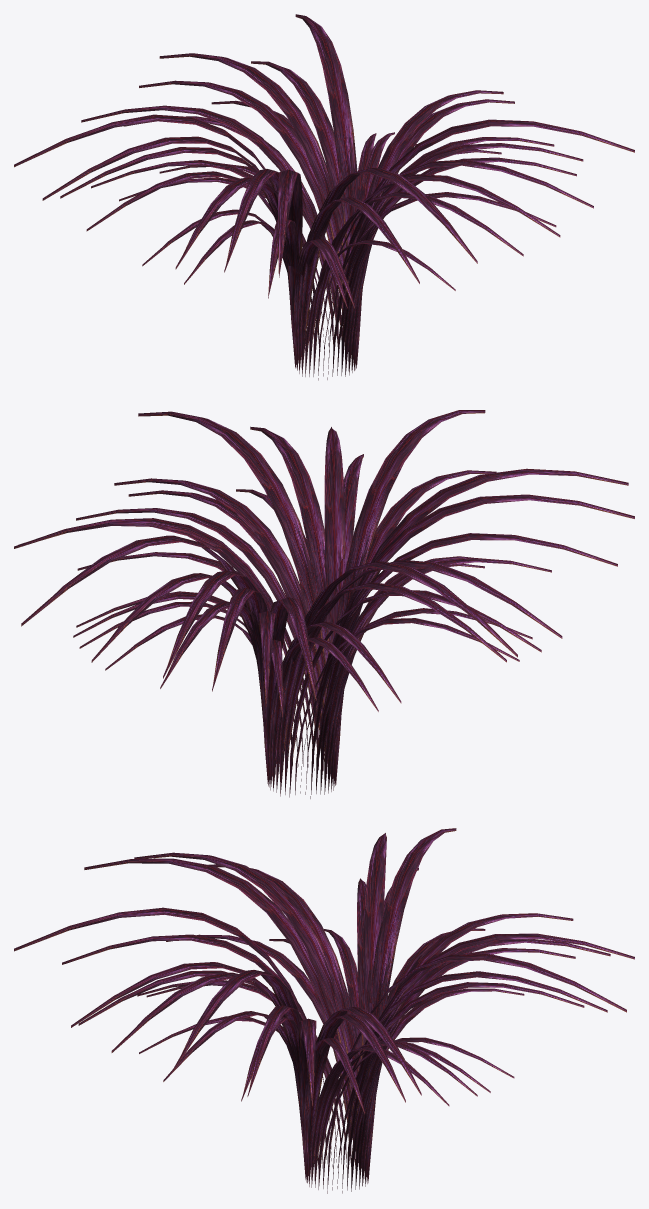
Rendered from finegrass_meadow_10.glb.
The picture shows the model from 3 angles, top to bottom: view 1: azimuth 30°, elevation 25°; view 2: azimuth 150°, elevation 25°; view 3: azimuth 270°, elevation 25°; orthographic projection. The views are drawn at different scales.
Parts seen in each view (by area): view 1: export; view 2: export; view 3: export.
Part boxes in pixels (box(x1,y1,x2,y2)): export: box(14, 14, 634, 380); export: box(14, 410, 634, 798); export: box(14, 828, 634, 1193).
Size of the model in its own units: 1.46 by 0.7457 by 1.58.
1 material, 1 textured.
